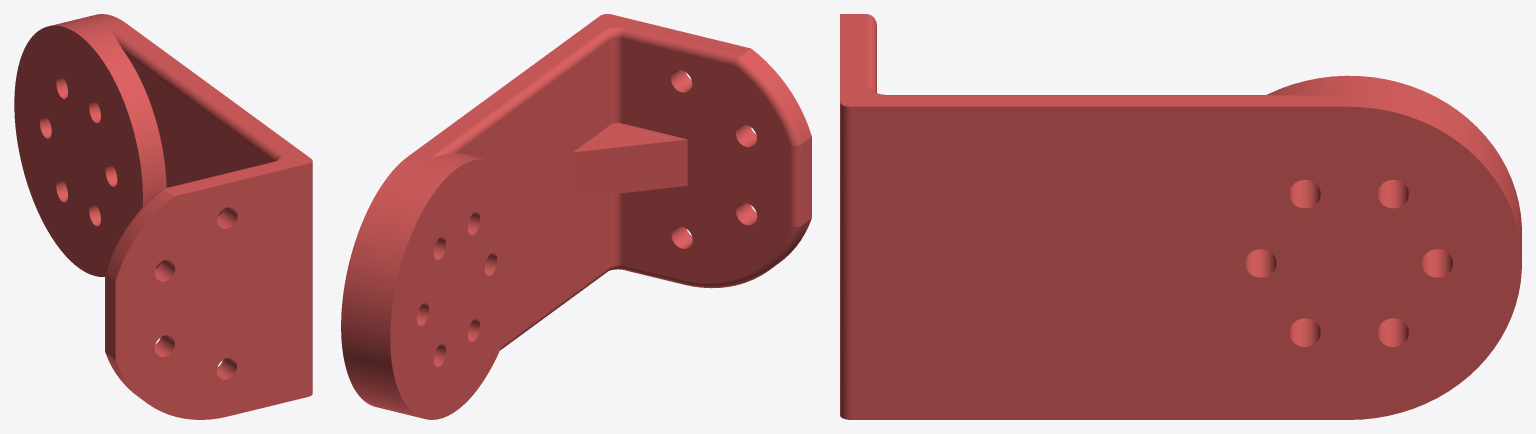
File: arm_right.dae
3 views of the same model, side by side, from view 1: azimuth 30°, elevation 25°; view 2: azimuth 150°, elevation 25°; view 3: azimuth 270°, elevation 25° (orthographic). The views are drawn at different scales.
Visible parts, largest first — view 1: arm_right; view 2: arm_right; view 3: arm_right.
Part boxes in pixels (x1,y1,x2,y2): arm_right: (14,14,312,419); arm_right: (341,14,811,419); arm_right: (840,14,1521,419).
Bounding box in the file's own units: 0.0422 × 0.0927 × 0.047.
